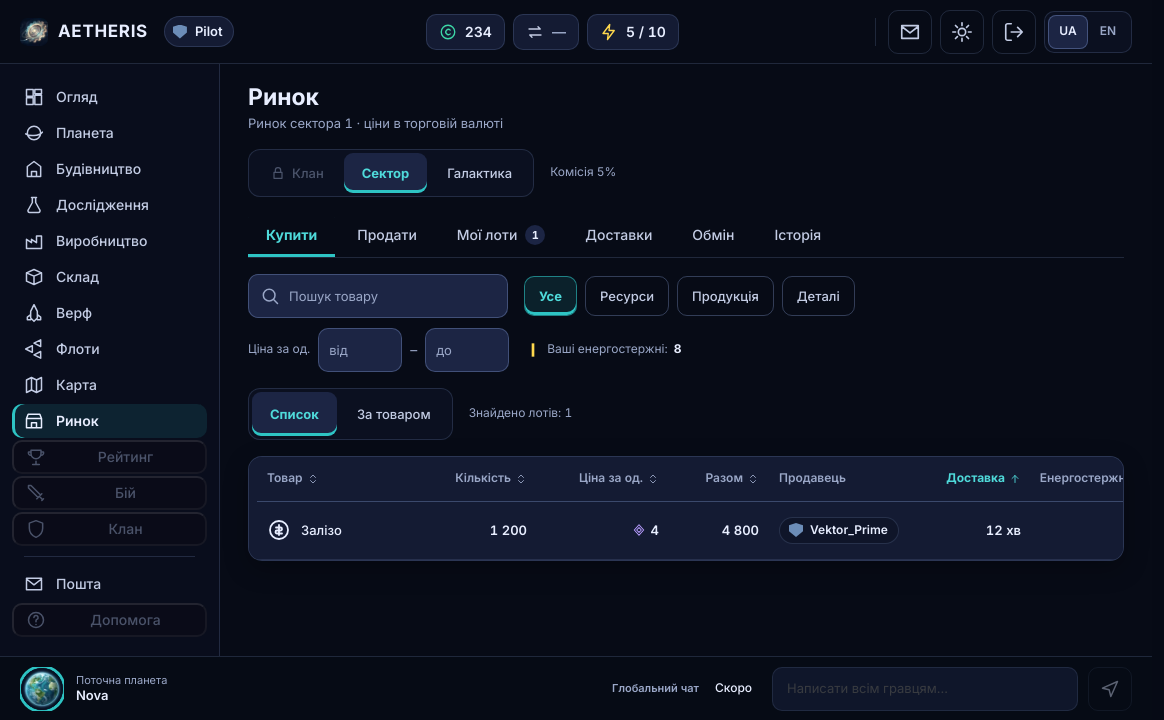
the tab Sell › closes the form and leads to the construction when no body has a trade centre and a portal
Click the tab "Продати" at (387, 235), box [339,213,435,257]
(page scrolled)
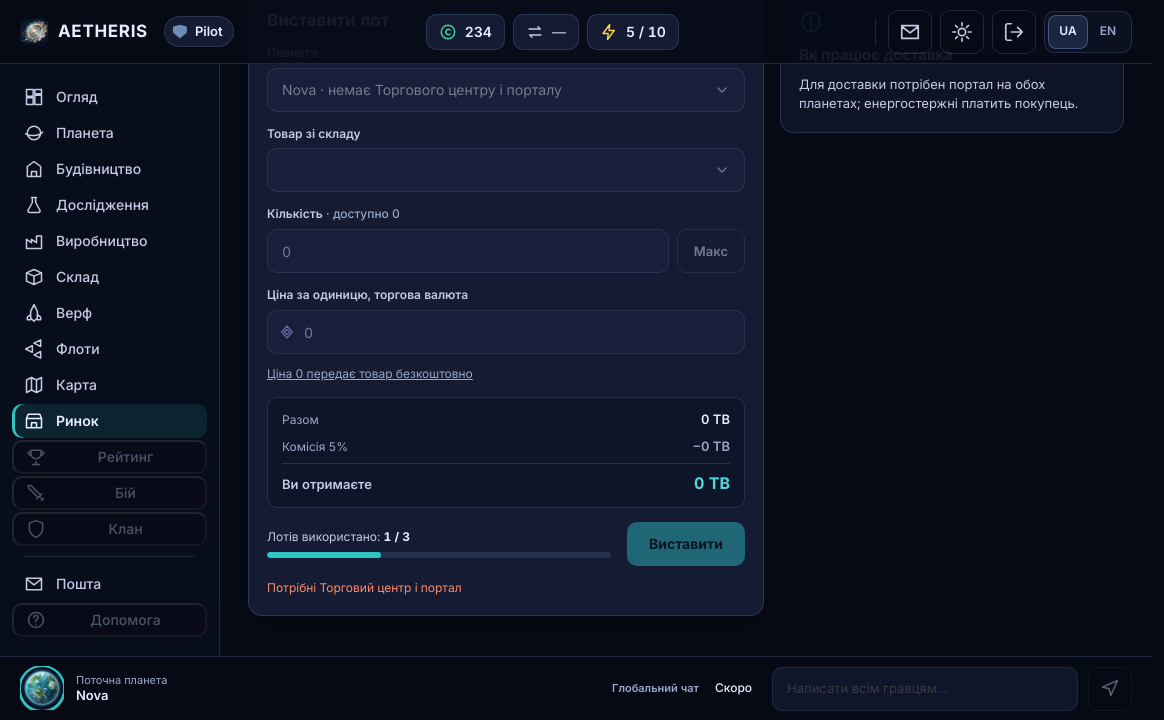
Check: the button "Виставити" is disabled, box [627,522,745,566]
